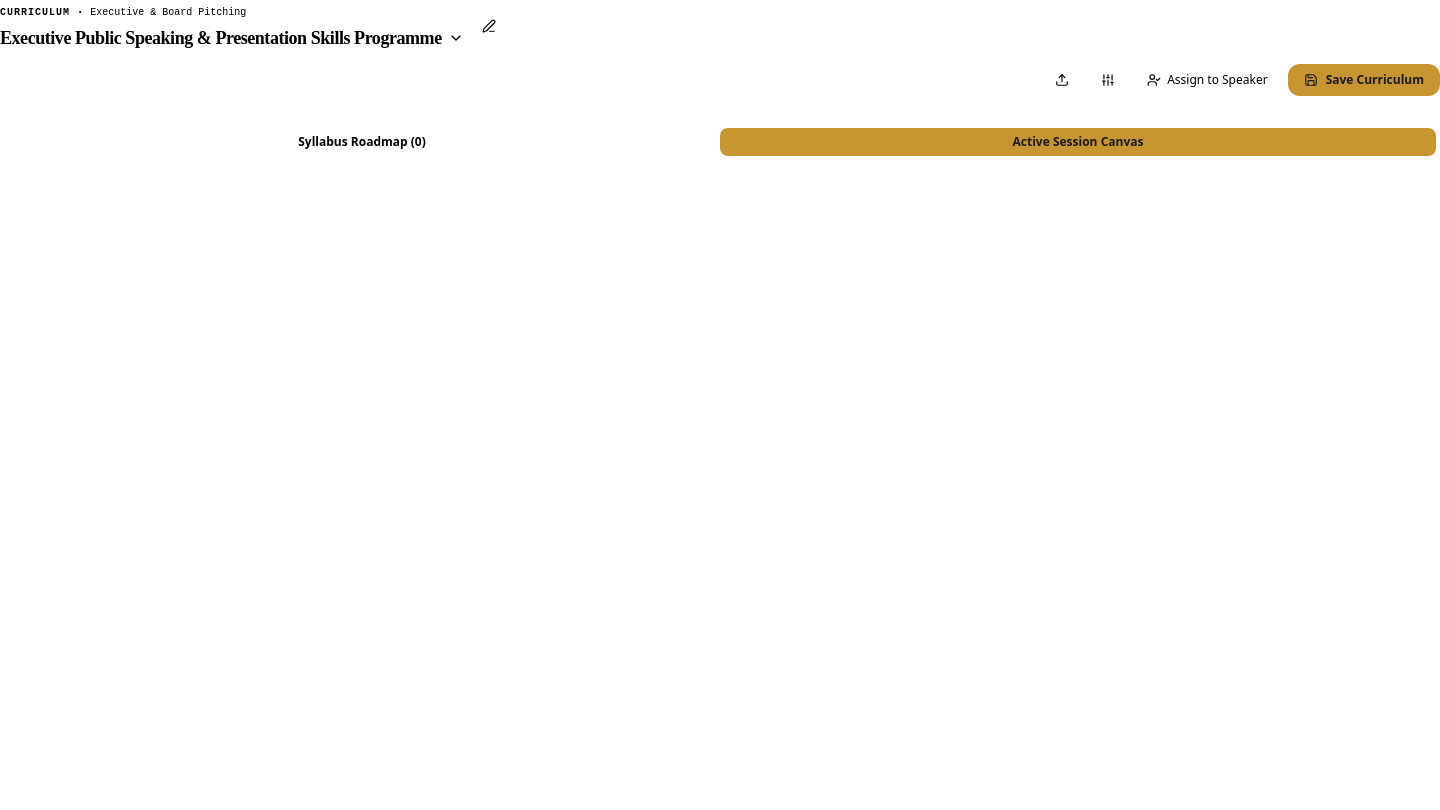
Test: Global Orators Minimalist Split-View ProgramBuilder › opens assign to speaker modal and displays client list
Click the button "Assign to Speaker".
click(1207, 80)  # box [1135, 64, 1280, 96]
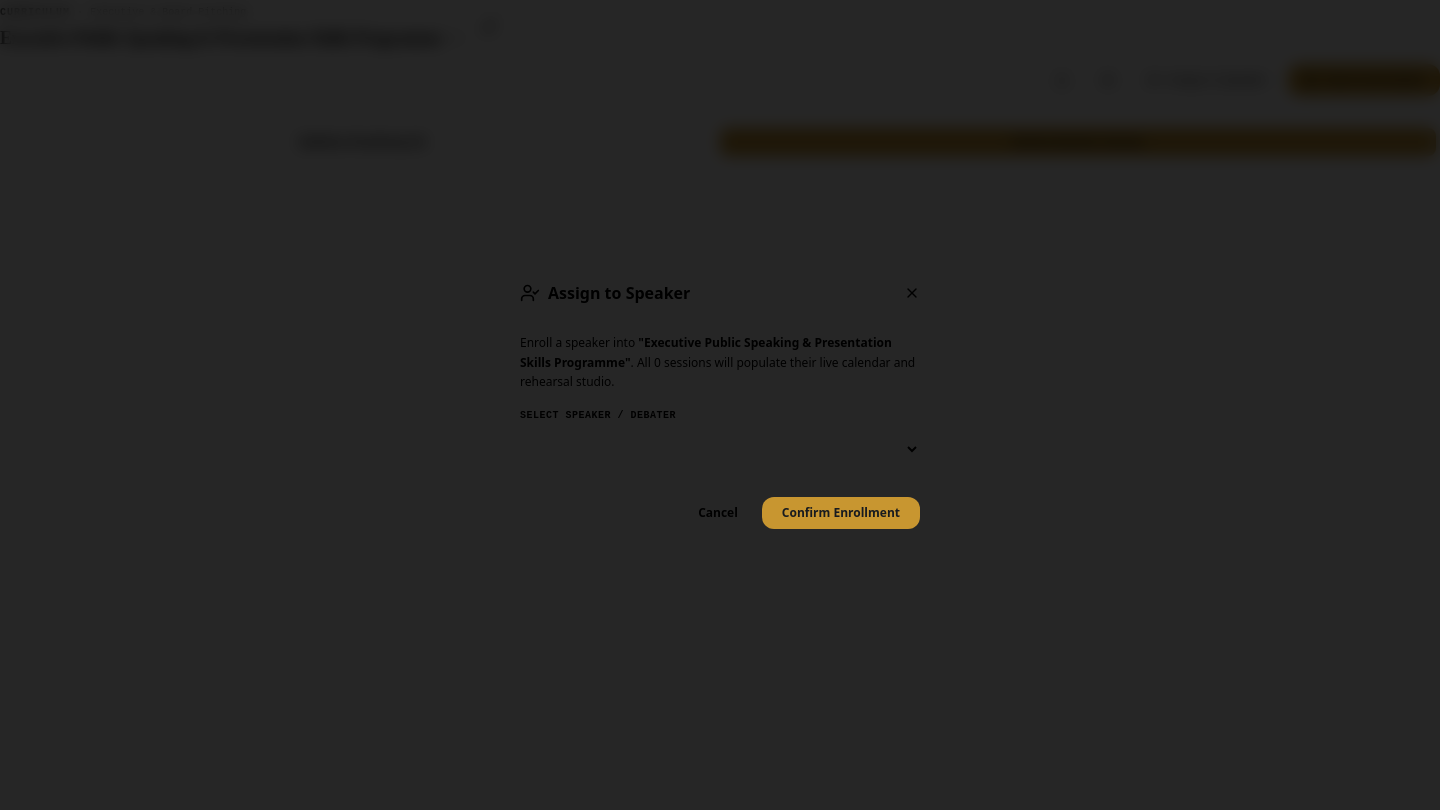
expect the heading "Assign to Speaker" is shown: met, box [548, 281, 690, 305]
expect the button "Confirm Enrollment" is shown: met, box [762, 497, 920, 529]
